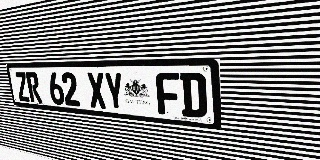2: (61, 72, 80, 106)
6: (47, 72, 65, 105)
D: (180, 73, 207, 118)
F: (156, 73, 181, 116)
R: (25, 72, 42, 103)
X: (86, 72, 107, 109)
Y: (103, 72, 125, 111)
Z: (14, 72, 31, 102)
